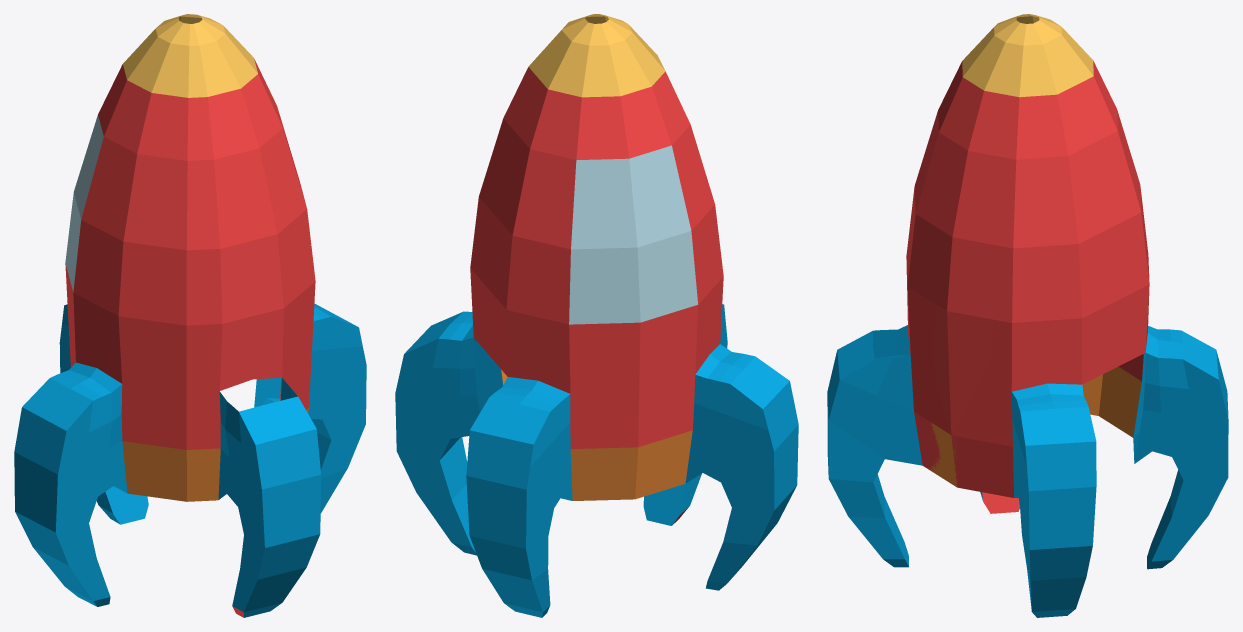
Rendered from SpaceShip.fbx.
3 renders of one model, left to right at view 1: azimuth 30°, elevation 25°; view 2: azimuth 150°, elevation 25°; view 3: azimuth 270°, elevation 25°, orthographic.
Parts seen in each view (by area): view 1: SpaceShipToy; view 2: SpaceShipToy; view 3: SpaceShipToy.
Boxes of the visible parts, x1,y1,x2,y2 form: SpaceShipToy: (14, 14, 366, 617); SpaceShipToy: (395, 14, 798, 617); SpaceShipToy: (827, 14, 1228, 617).
Size of the model in its own units: 223 by 331 by 221.
